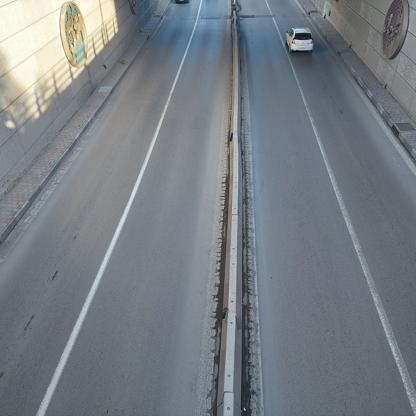Car: (283, 28, 313, 56)
